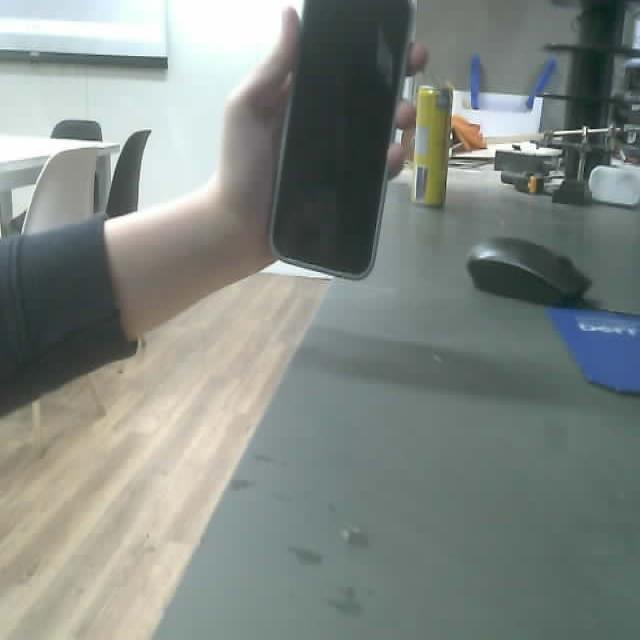phone: (273, 0, 420, 279)
